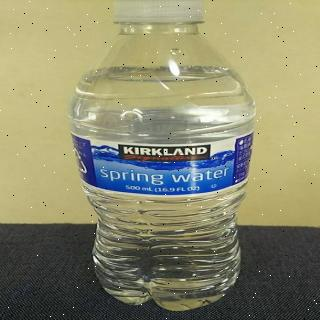Plastic-bottle: (66, 1, 262, 315)
